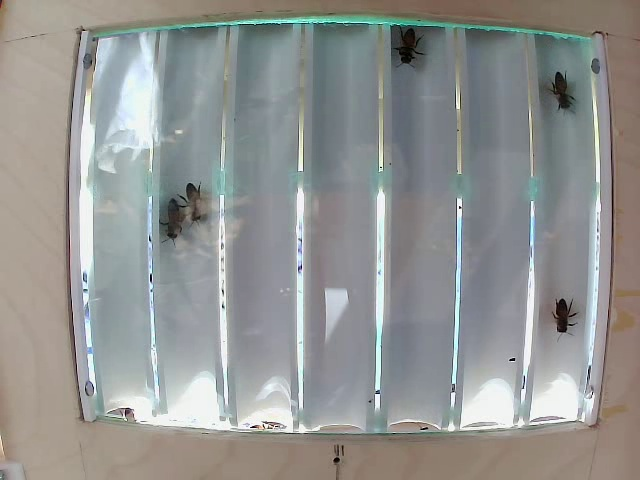bee: (178, 176, 214, 226), (155, 193, 188, 241), (535, 66, 575, 102), (395, 15, 417, 69), (543, 296, 574, 327)
